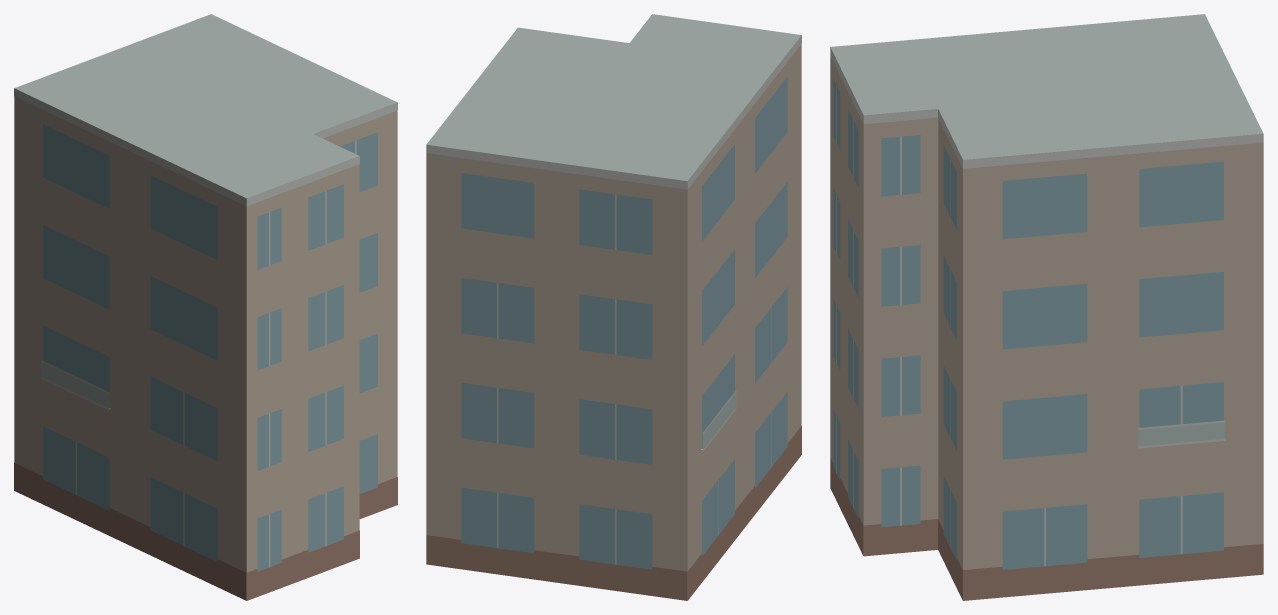
The model's file is residential-b5dc4887-e9a4-40c2-86af-6aac99eb073f.glb.
The picture shows the model from 3 angles, left to right: view 1: azimuth 30°, elevation 25°; view 2: azimuth 150°, elevation 25°; view 3: azimuth 270°, elevation 25°; orthographic projection. The views are drawn at different scales.
Parts seen in each view (by area): view 1: residential-b5dc4887-e9a4-40c2-86af-6aac99eb073f.tmp; view 2: residential-b5dc4887-e9a4-40c2-86af-6aac99eb073f.tmp; view 3: residential-b5dc4887-e9a4-40c2-86af-6aac99eb073f.tmp.
Boxes of the visible parts, x1,y1,x2,y2 form: residential-b5dc4887-e9a4-40c2-86af-6aac99eb073f.tmp: [14, 14, 397, 600]; residential-b5dc4887-e9a4-40c2-86af-6aac99eb073f.tmp: [426, 14, 801, 600]; residential-b5dc4887-e9a4-40c2-86af-6aac99eb073f.tmp: [830, 14, 1263, 600].
Bounding box in the file's own units: 8.67 × 12.2 × 10.88.
